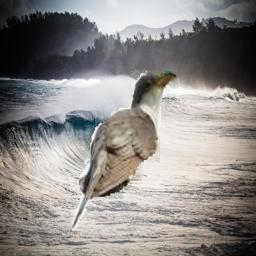Cuckoo: (71, 70, 178, 231)
